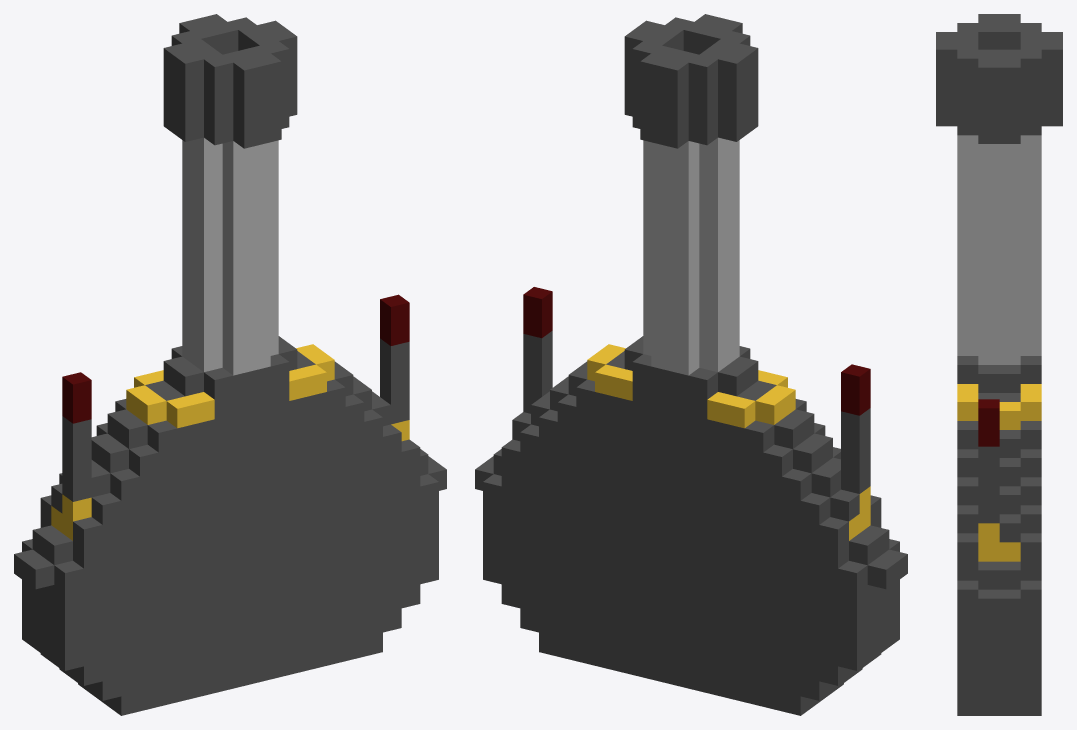
Rendered from VoidEdgeTank V1-0.obj.
3 renders of one model, left to right at view 1: azimuth 30°, elevation 25°; view 2: azimuth 150°, elevation 25°; view 3: azimuth 270°, elevation 25°, orthographic. The views are drawn at different scales.
Bounding box in the file's own units: 2.2 × 3.2 × 0.6.
1 material, 1 textured.
